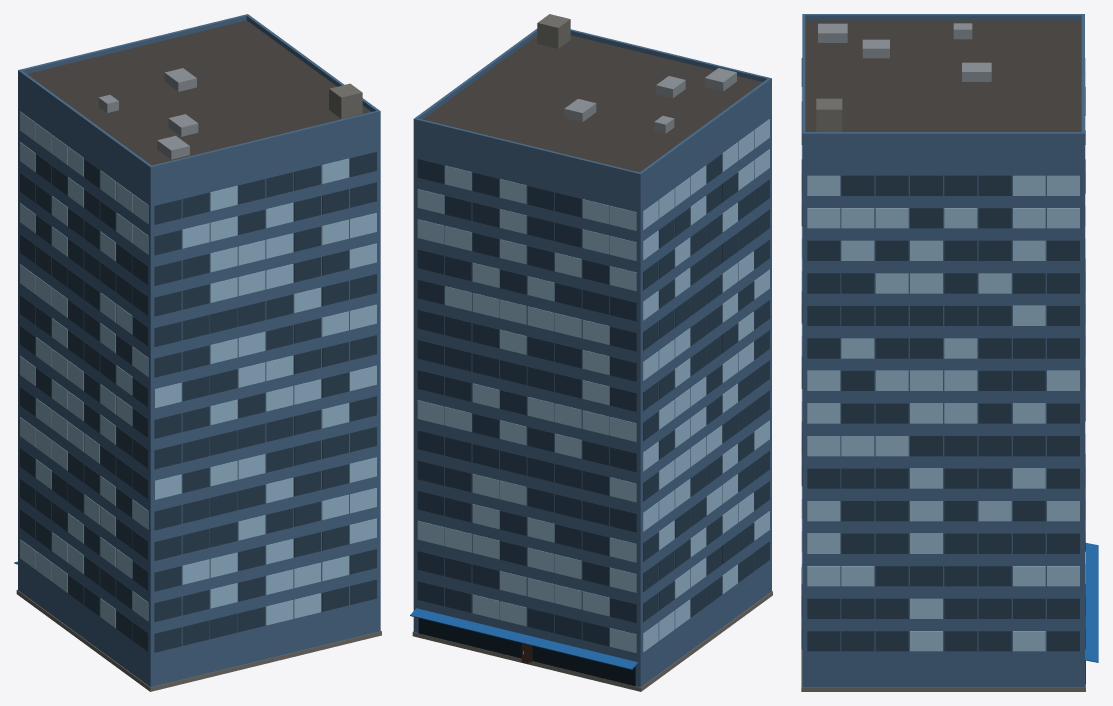
Rendered from bld_office_a.glb.
3 renders of one model, left to right at view 1: azimuth 30°, elevation 25°; view 2: azimuth 150°, elevation 25°; view 3: azimuth 270°, elevation 25°, orthographic. The views are drawn at different scales.
Visible parts, largest first — view 1: bld_office_a__mesh; view 2: bld_office_a__mesh; view 3: bld_office_a__mesh.
Part boxes in pixels (<box>): bld_office_a__mesh: <box>14,14,381,691</box>; bld_office_a__mesh: <box>410,14,772,691</box>; bld_office_a__mesh: <box>801,14,1098,691</box>.
Bounding box in the file's own units: 26.16 × 58.4 × 27.33.
